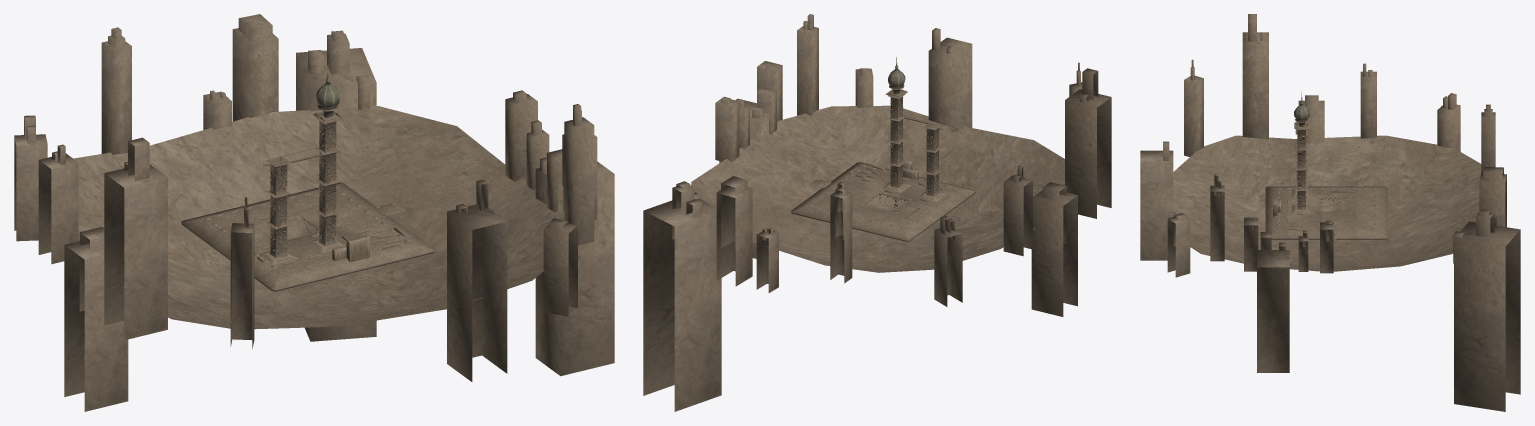
File: CharacterSystem_LvL.fbx
The picture shows the model from 3 angles, left to right: view 1: azimuth 30°, elevation 25°; view 2: azimuth 150°, elevation 25°; view 3: azimuth 270°, elevation 25°; orthographic projection. The views are drawn at different scales.
Parts seen in each view (by area): view 1: Backdrop, Base, Tower_Detail, Tower_Part_8, Tower_Part_7, Tower_Part_6, Tower_Part_5, Tower_Part_1, Tower_Part_2, Tower_Part_3, Tower_Part_4; view 2: Backdrop, Base, Tower_Detail, Tower_Part_8; view 3: Backdrop, Base, Tower_Detail, Tower_Part_8.
Boxes of the visible parts, bbox=[...] form: Backdrop: bbox=[14, 14, 614, 411]; Base: bbox=[73, 106, 564, 329]; Tower_Detail: bbox=[204, 188, 411, 273]; Tower_Part_8: bbox=[263, 65, 343, 168]; Tower_Part_7: bbox=[266, 157, 290, 196]; Tower_Part_6: bbox=[266, 190, 290, 227]; Tower_Part_5: bbox=[266, 221, 291, 258]; Tower_Part_1: bbox=[315, 209, 340, 246]; Tower_Part_2: bbox=[315, 178, 340, 215]; Tower_Part_3: bbox=[316, 148, 340, 184]; Tower_Part_4: bbox=[315, 117, 339, 153]; Backdrop: bbox=[643, 14, 1111, 411]; Base: bbox=[691, 105, 1064, 272]; Tower_Detail: bbox=[808, 159, 958, 228]; Tower_Part_8: bbox=[885, 57, 943, 130]; Backdrop: bbox=[1140, 14, 1520, 411]; Base: bbox=[1173, 135, 1481, 271]; Tower_Detail: bbox=[1273, 188, 1376, 239]; Tower_Part_8: bbox=[1294, 91, 1309, 144].
Bounding box in the file's own units: 324 × 249 × 327.
